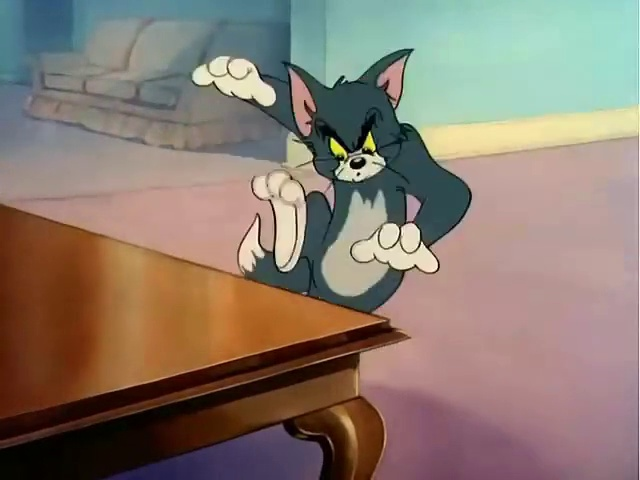tom: (174, 21, 479, 327)
